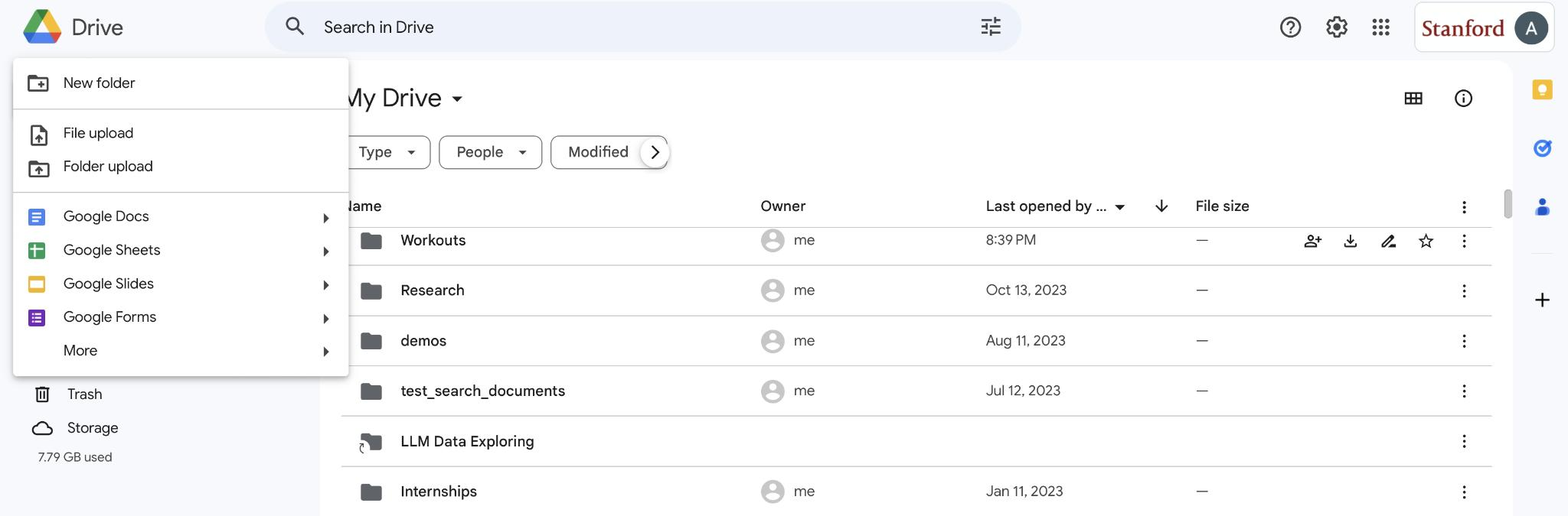webelement: (348, 417, 1489, 467), (350, 316, 1483, 366), (351, 369, 1488, 417), (348, 221, 1475, 269), (345, 471, 1486, 516), (350, 270, 1483, 315), (269, 0, 1025, 55), (14, 201, 338, 235), (17, 116, 346, 149), (17, 301, 343, 334), (20, 337, 343, 370), (17, 153, 348, 185), (20, 68, 345, 100), (18, 238, 343, 269), (18, 275, 345, 302), (20, 410, 263, 443), (20, 378, 261, 409), (1320, 6, 1359, 49), (1450, 81, 1481, 114)
